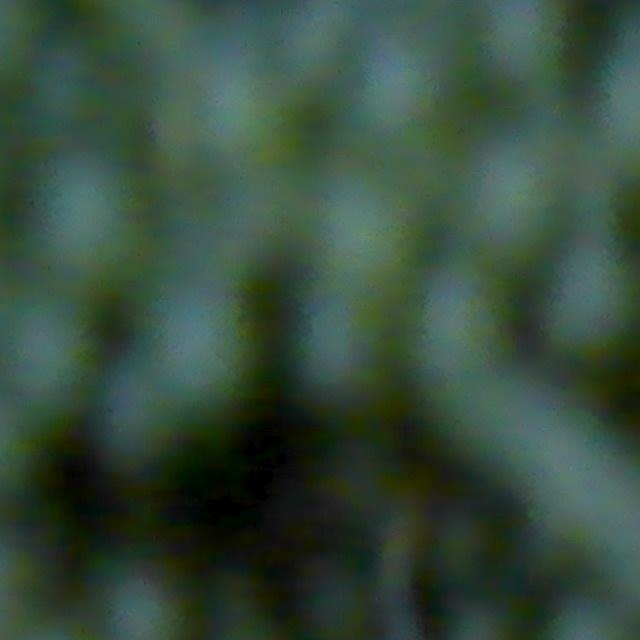SeaGrape: (273, 281, 409, 413), (34, 161, 164, 290), (440, 155, 570, 267), (175, 42, 299, 154), (308, 174, 423, 294), (140, 289, 252, 407), (352, 31, 452, 149), (412, 267, 511, 376), (537, 248, 640, 348), (16, 284, 104, 396), (459, 0, 569, 88)
